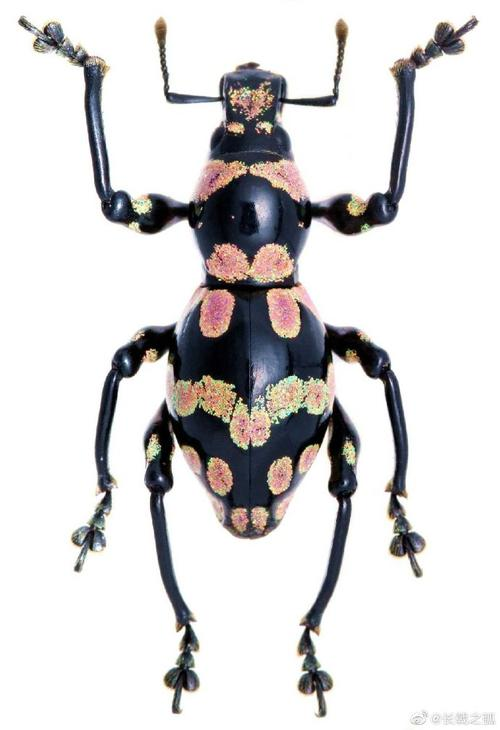Curculionidae: (17, 15, 478, 718)
